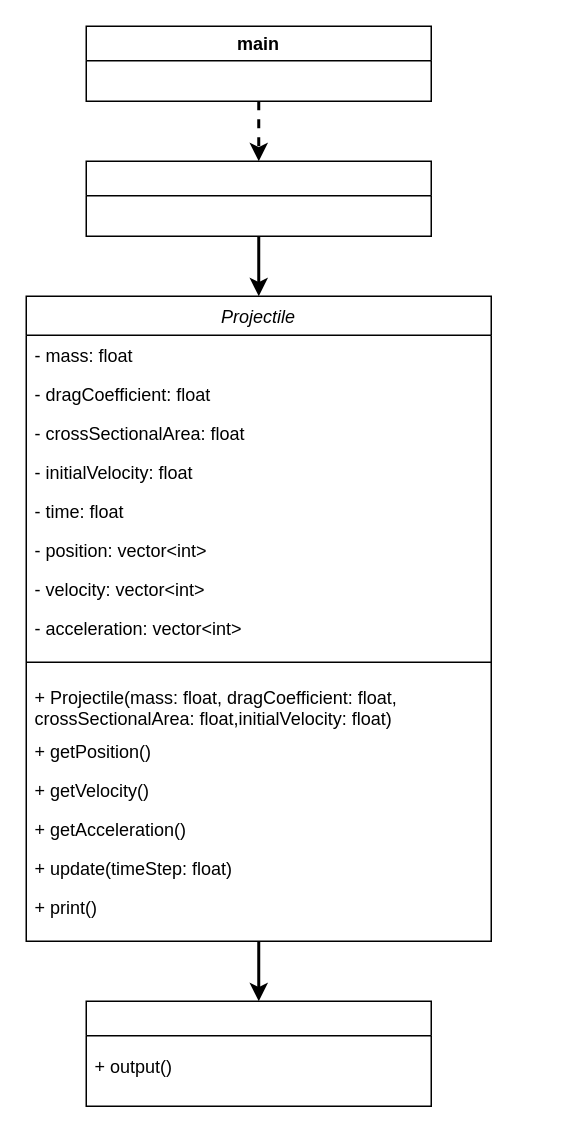
The diagram is 578 pixels wide and 1133 high, and some of its shapes have lost their labels. The box of each missing label's shape, as (x1, y1, x2, y2) in pixels:
menu: (85, 160, 431, 236)
OutputPosition: (85, 1000, 431, 1106)
